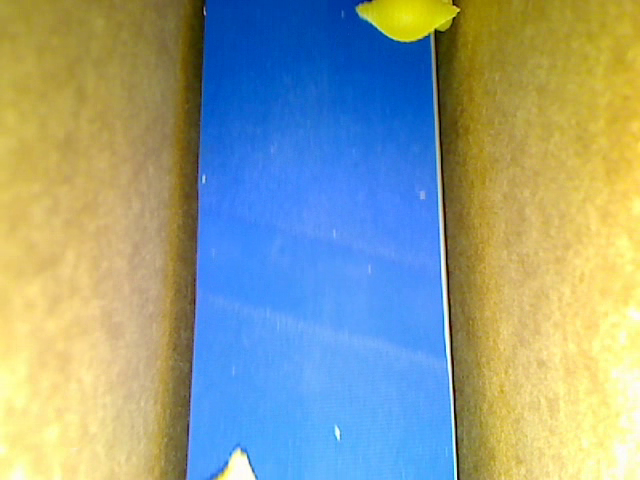shell: (355, 1, 460, 43)
